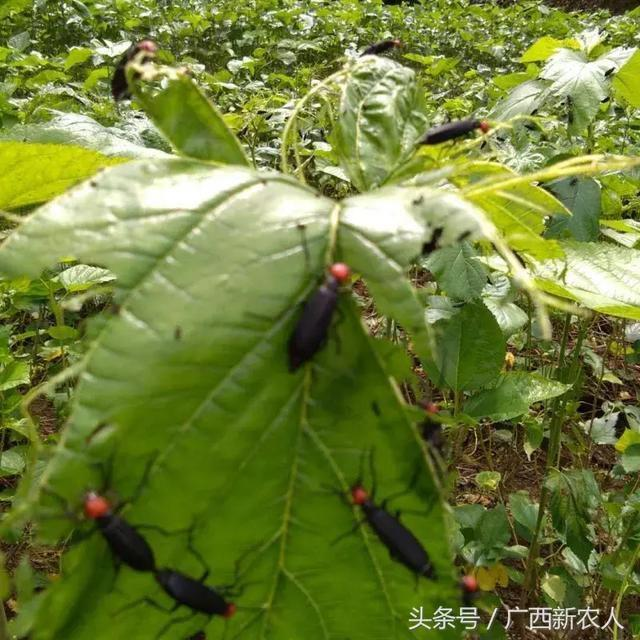BlisterBeetle-Adult-: (248, 216, 369, 390)
